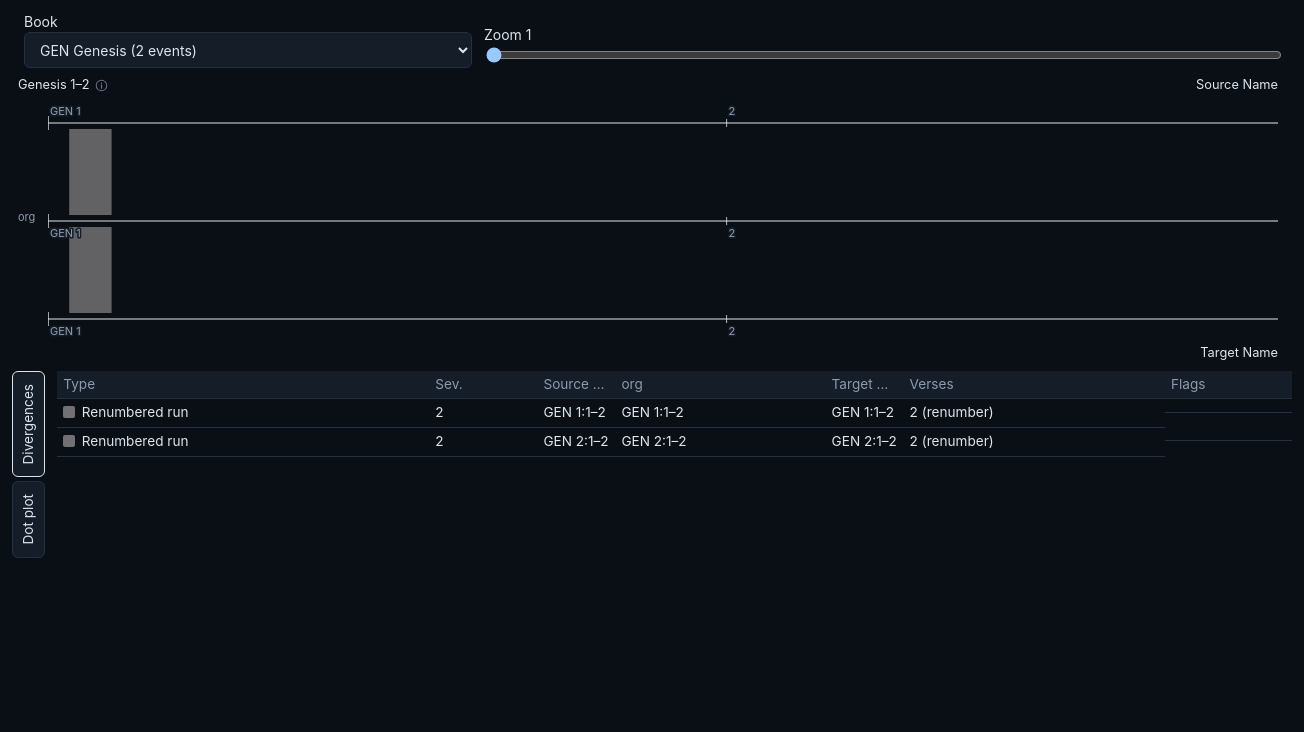
Test case: DetailView selection › explains the dot plot from the magnify offsets control
The width and height of the screenshot is (1304, 732).
Click the tab "Dot plot": [28, 519] box [12,481,45,558]
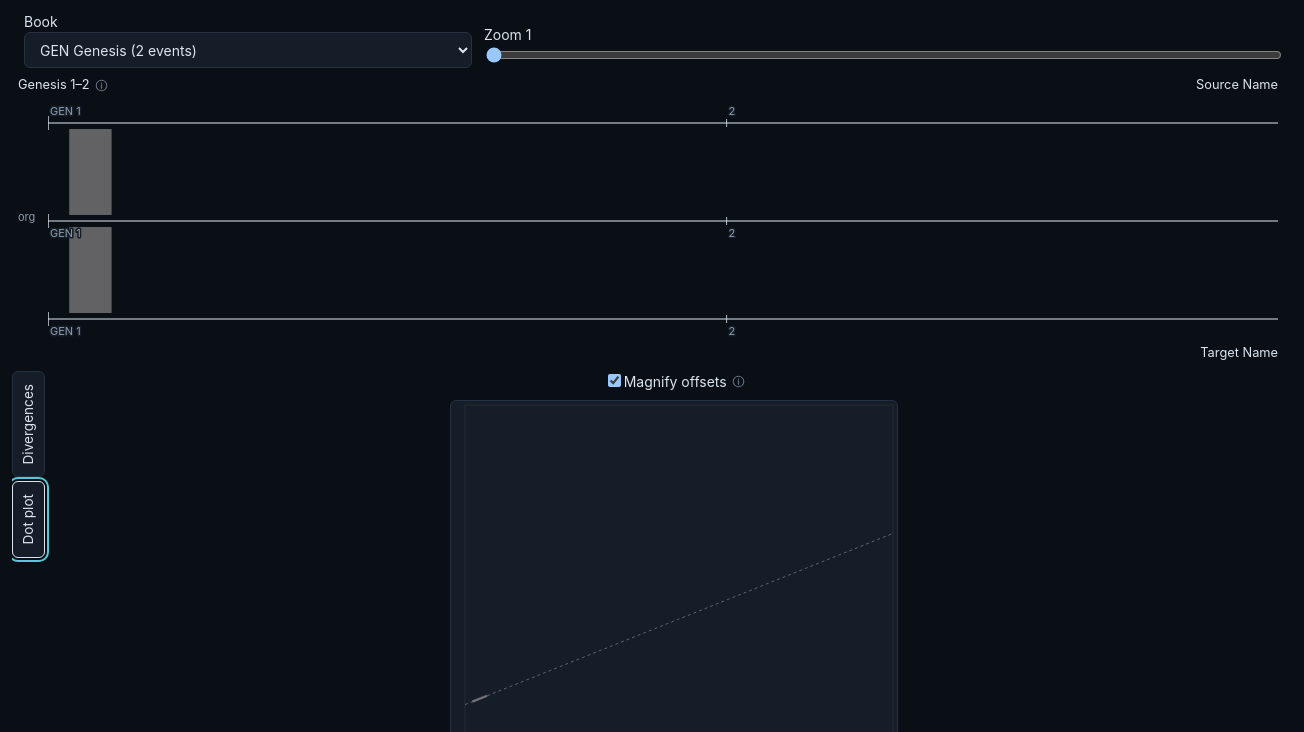
Check: the text "x is the" is not shown
Check: the checkbox labelled "Magnify offsets" is checked, box [608,374,621,387]
Click the button named "Dot plot explanation": [739, 381] box [732,375,745,388]
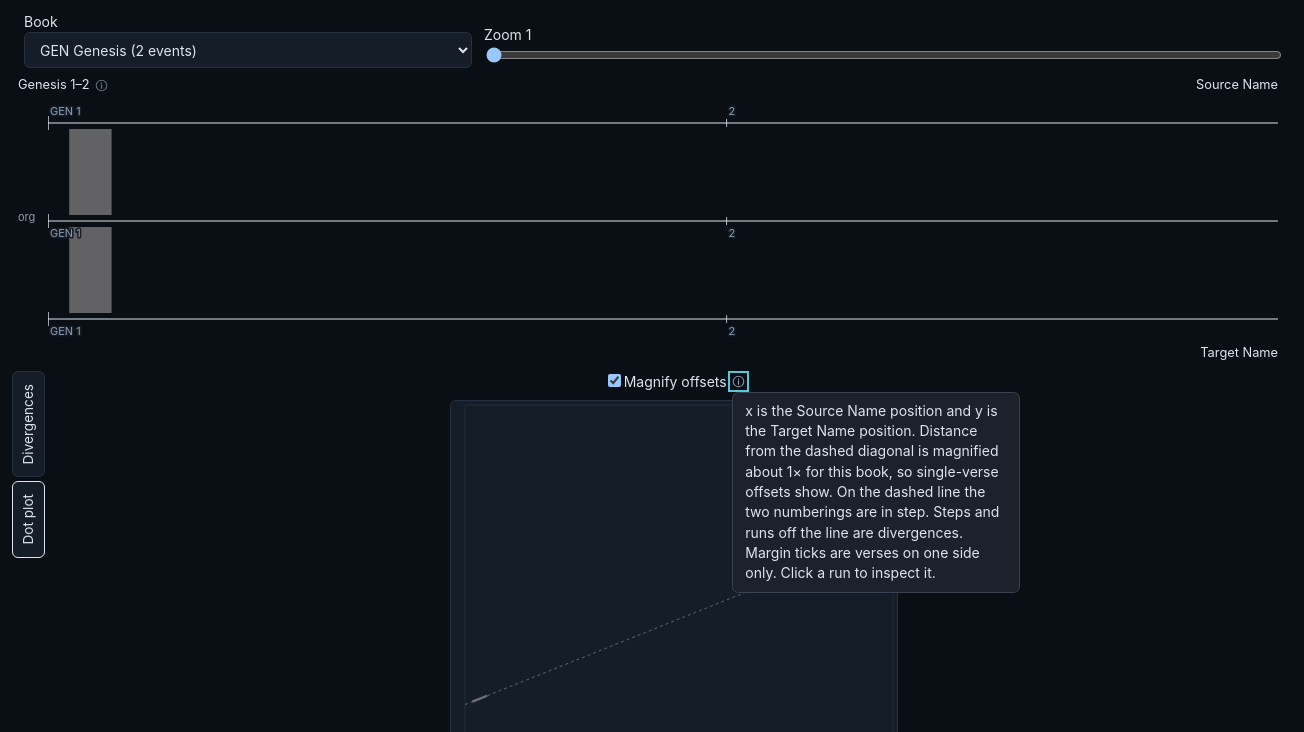
Check: the checkbox labelled "Magnify offsets" is checked
Check: the tooltip shows "x is the Source Name position and y is the Target Name position", box [745,402,1000,581]
Check: the tooltip shows "Click a run to inspect it.", box [745,402,1000,581]
Click the checkbox labelled "Magnify offsets": [614, 380] box [608,374,621,387]
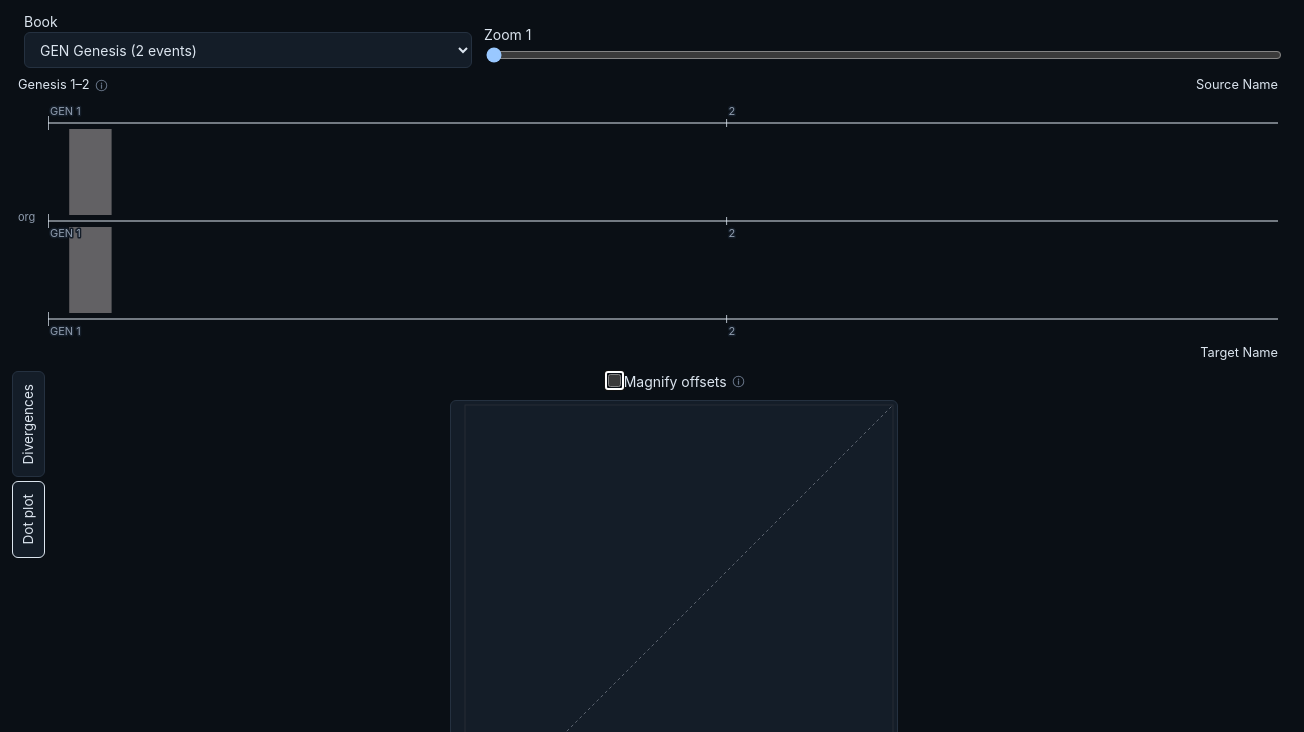
Check: the checkbox labelled "Magnify offsets" is not checked, box [608,374,621,387]
Check: the tooltip is gone
Click the button named "Dot plot explanation": [739, 381] box [732,375,745,388]
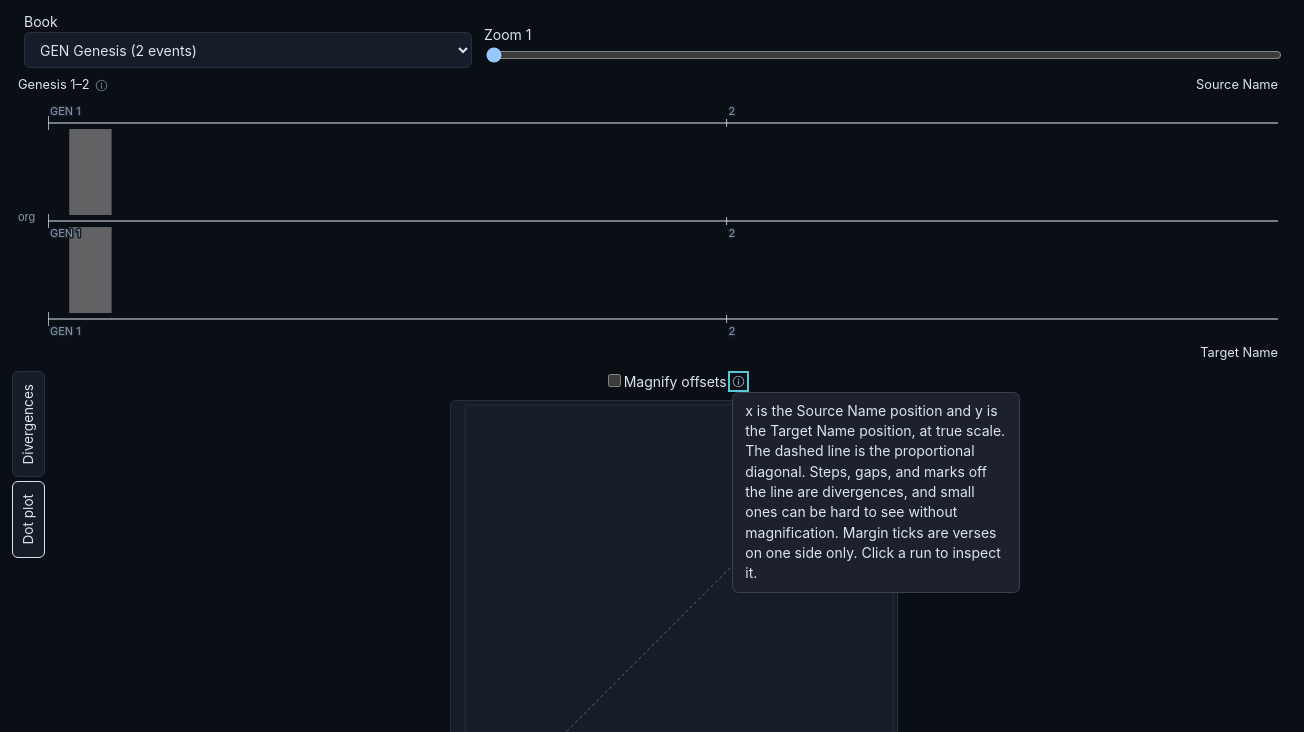
Check: the tooltip shows "at true scale", box [745,402,1005,581]
